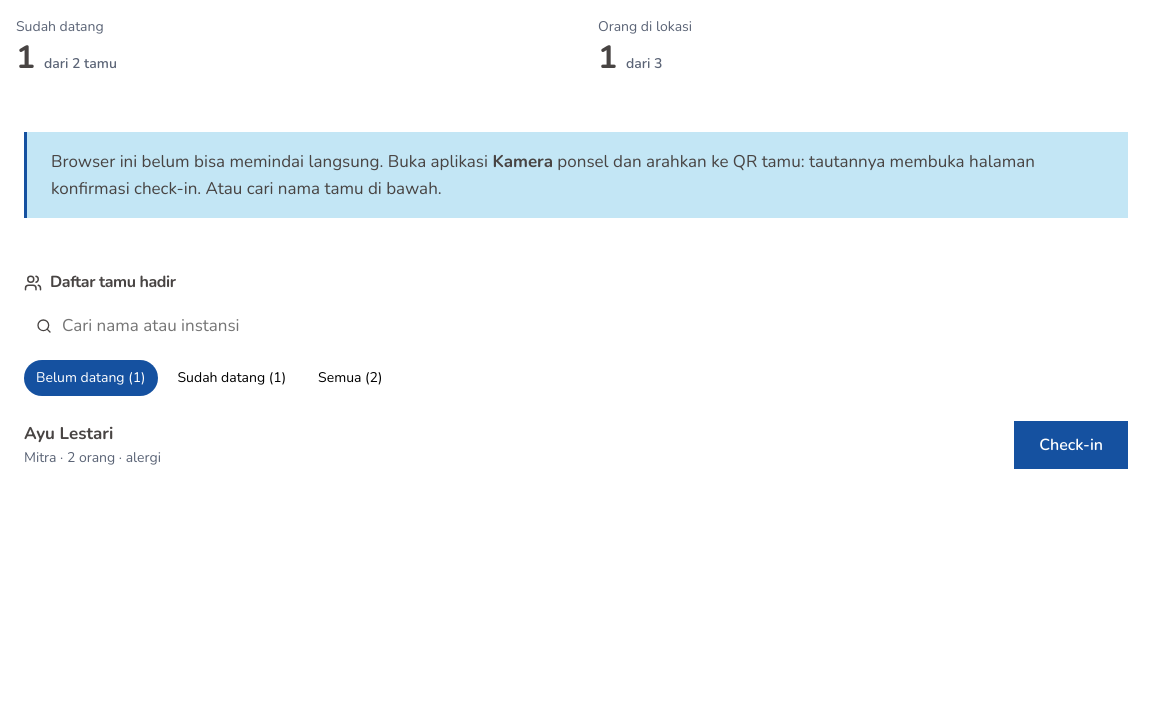
checks a guest in by name and shows what the door needs to know
Click the button "Check-in" at (1071, 445), box [1014,420,1128,469]
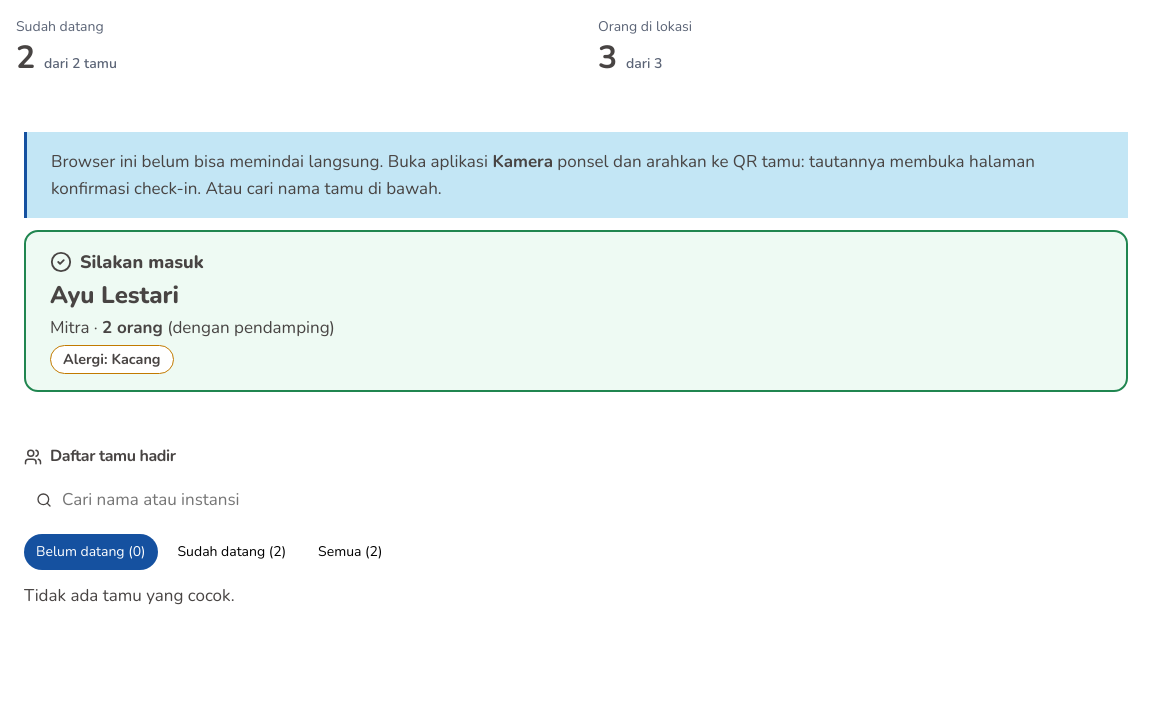
Now the text "Silakan masuk" is shown, box [50,250,204,274]
Now the text "2 orang" is shown, box [102,316,163,338]
Now the text "Alergi: Kacang" is shown, box [50,345,174,374]
